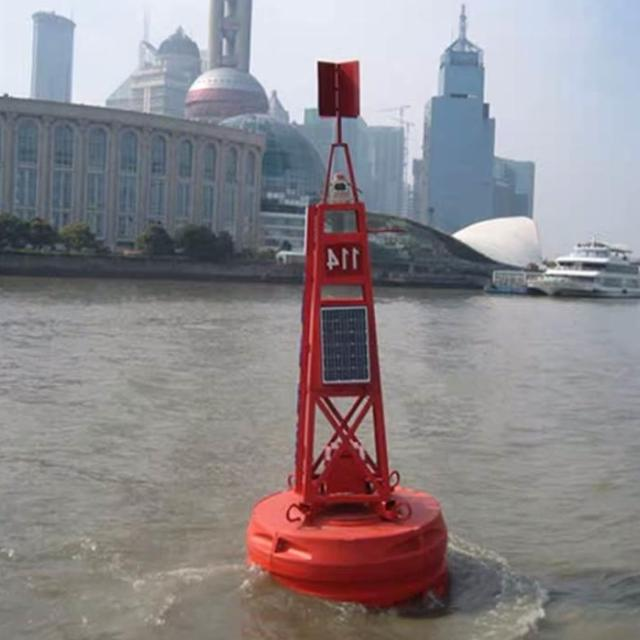buoy: (244, 50, 456, 604)
